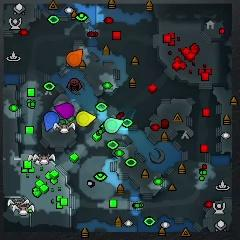p1: (45, 112, 59, 131)
p2: (105, 118, 123, 134)
p3: (55, 102, 75, 119)
p4: (77, 111, 96, 127)
p5: (67, 50, 83, 66)
